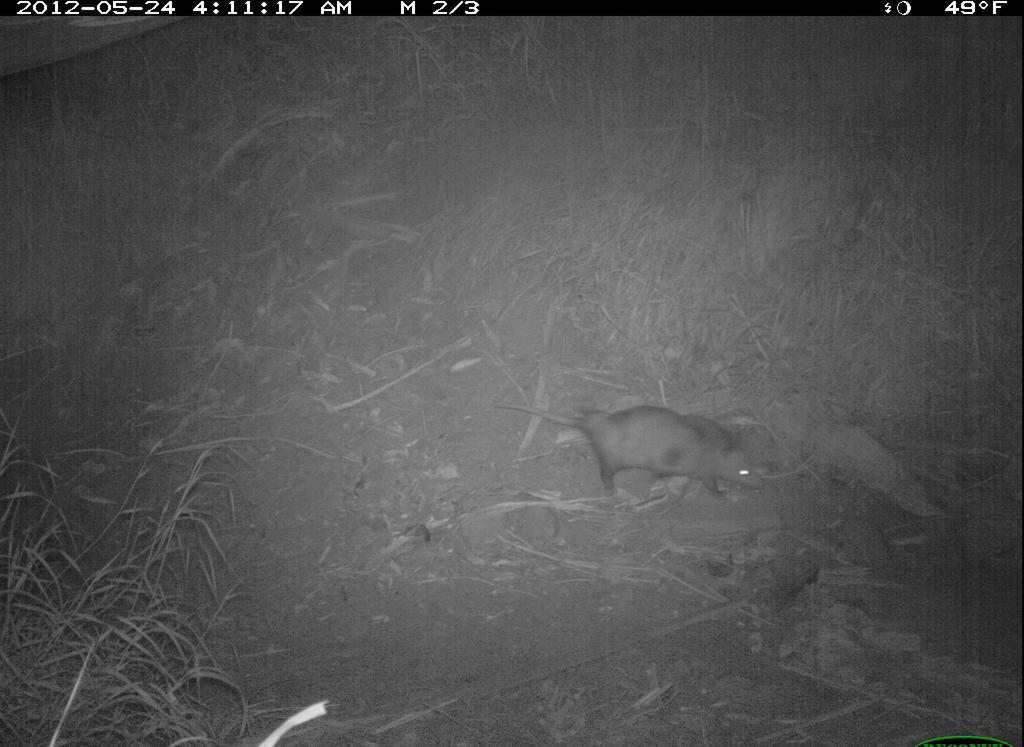opossum: (528, 376, 804, 534)
